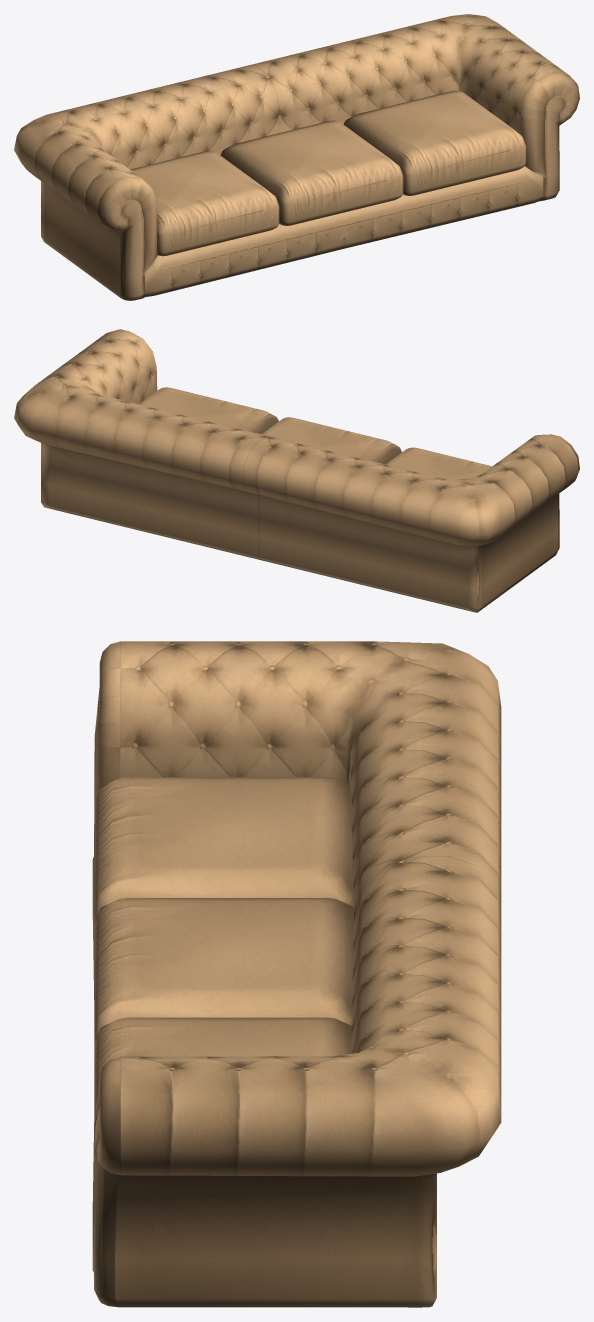
Rendered from Three_Seater_Sofa_03.fbx.
3 views of the same model, one above another, from view 1: azimuth 30°, elevation 25°; view 2: azimuth 150°, elevation 25°; view 3: azimuth 270°, elevation 25° (orthographic). The views are drawn at different scales.
Visible parts, largest first — view 1: Sofa; view 2: Sofa; view 3: Sofa.
Boxes of the visible parts, box(x1,y1,x2,y2) form: Sofa: box(14, 14, 579, 300); Sofa: box(14, 329, 579, 612); Sofa: box(92, 641, 501, 1307).
Size of the model in its own units: 299 by 72.3 by 110.
1 material, 1 textured.
